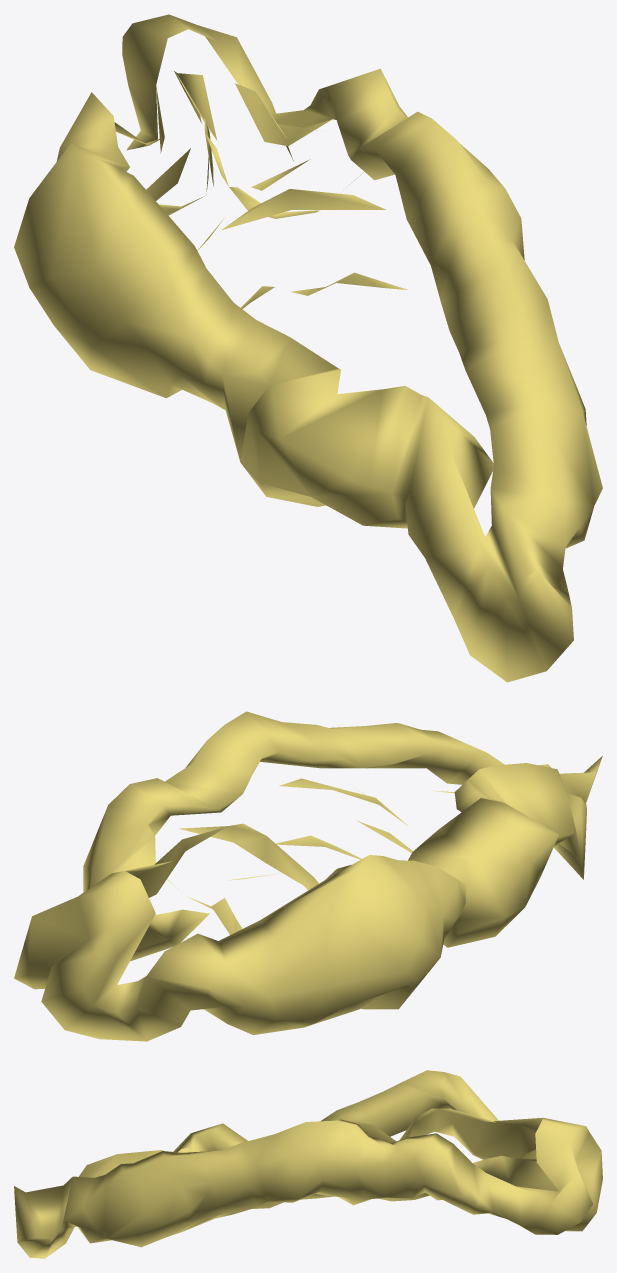
File: lateral-occipitotemporal-gyrus-r.glb
3 renders of one model, top to bottom at view 1: azimuth 30°, elevation 25°; view 2: azimuth 150°, elevation 25°; view 3: azimuth 270°, elevation 25°, orthographic. The views are drawn at different scales.
Visible parts, largest first — view 1: Lateral occipitotemporal gyrus.r; view 2: Lateral occipitotemporal gyrus.r; view 3: Lateral occipitotemporal gyrus.r.
Part boxes in pixels (bbox=[...]): Lateral occipitotemporal gyrus.r: bbox=[14, 14, 602, 682]; Lateral occipitotemporal gyrus.r: bbox=[14, 711, 602, 1041]; Lateral occipitotemporal gyrus.r: bbox=[14, 1070, 602, 1258].
Bounding box in the file's own units: 0.0258 × 0.022 × 0.0623.
